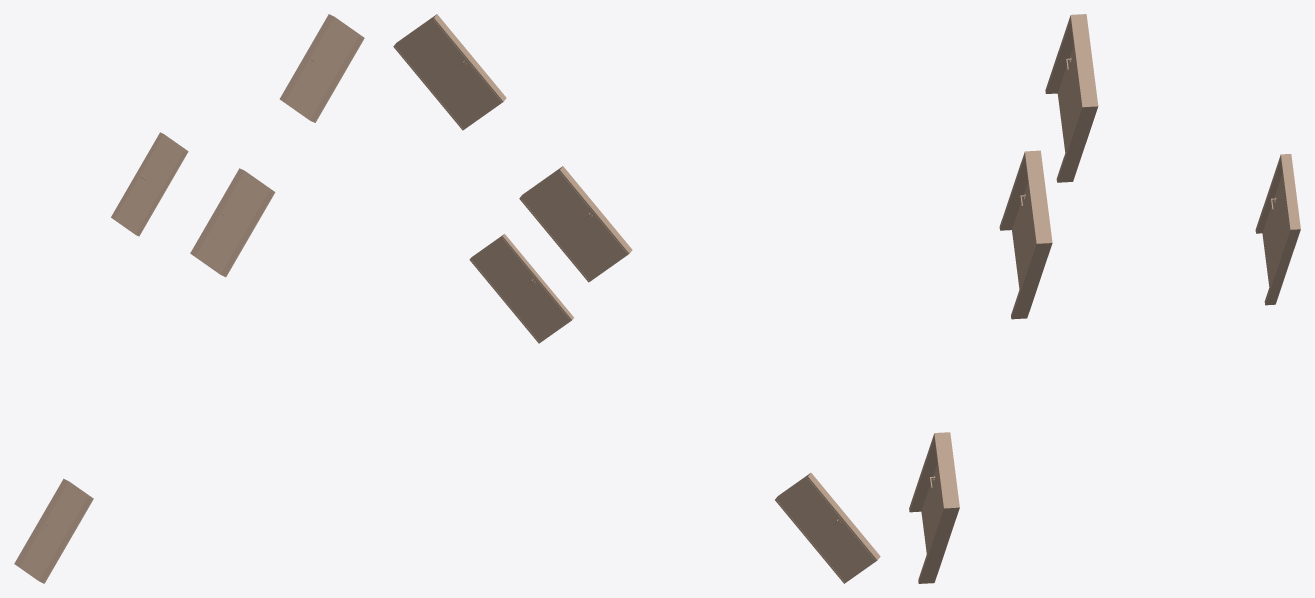
3 renders of one model, left to right at view 1: azimuth 30°, elevation 25°; view 2: azimuth 150°, elevation 25°; view 3: azimuth 270°, elevation 25°, orthographic. The views are drawn at different scales.
Visible parts, largest first — view 1: mesh; view 2: mesh; view 3: mesh.
Part boxes in pixels (<box>): mesh: <box>14,14,364,583</box>; mesh: <box>393,14,880,583</box>; mesh: <box>909,14,1300,583</box>.
Size of the model in its own units: 9.35 by 10.45 by 4.23.
